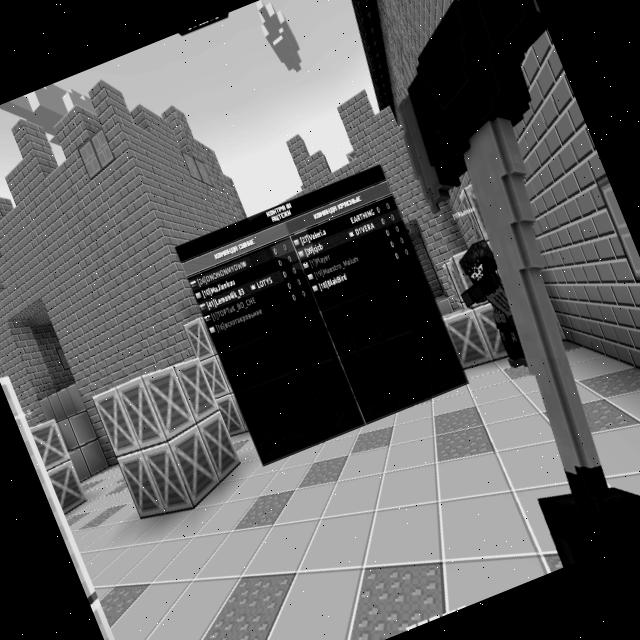Head: (454, 237, 501, 286)
Player: (444, 237, 537, 380)
